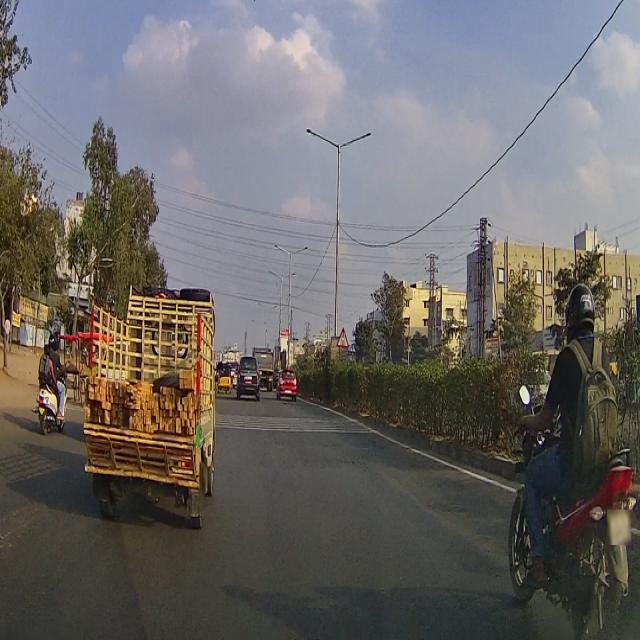gap-in-median: (337, 324, 348, 352)
